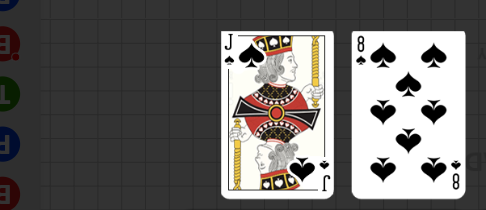8S: (356, 35, 368, 68)
JS: (222, 33, 266, 80), (289, 154, 333, 200)
